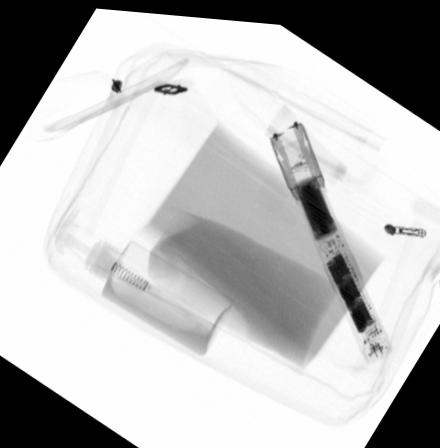Baton: (267, 112, 395, 360)
